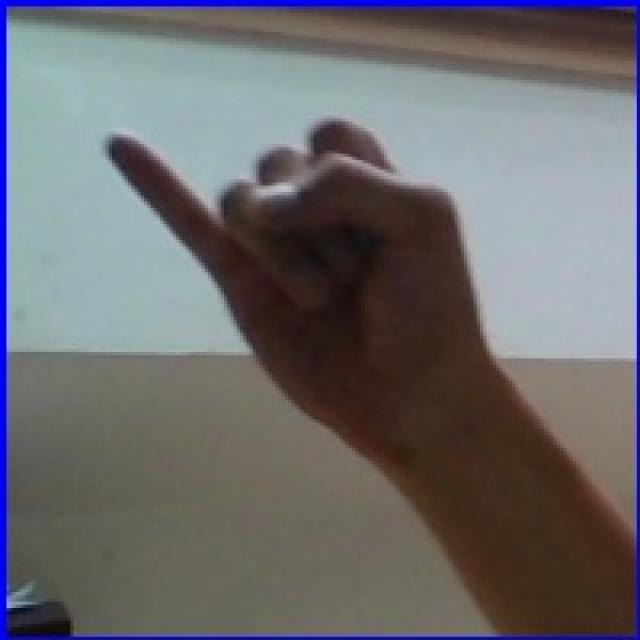J: (72, 68, 568, 527)
